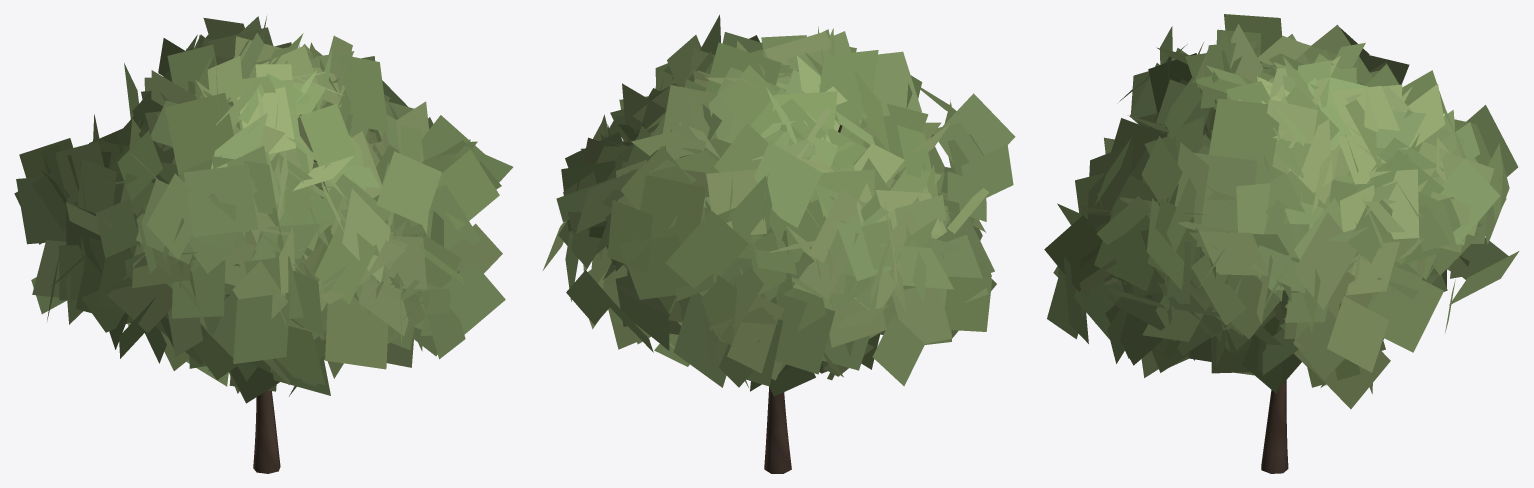
Rendered from whiteblossom_0.glb.
The picture shows the model from 3 angles, left to right: view 1: azimuth 30°, elevation 25°; view 2: azimuth 150°, elevation 25°; view 3: azimuth 270°, elevation 25°; orthographic projection.
Parts seen in each view (by area): view 1: whiteblossom_0; view 2: whiteblossom_0; view 3: whiteblossom_0.
Part boxes in pixels (box(x1,y1,x2,y2)): whiteblossom_0: box(14, 16, 513, 473); whiteblossom_0: box(543, 14, 1015, 473); whiteblossom_0: box(1044, 14, 1519, 473).
Size of the model in its own units: 0.9901 by 1 by 1.
